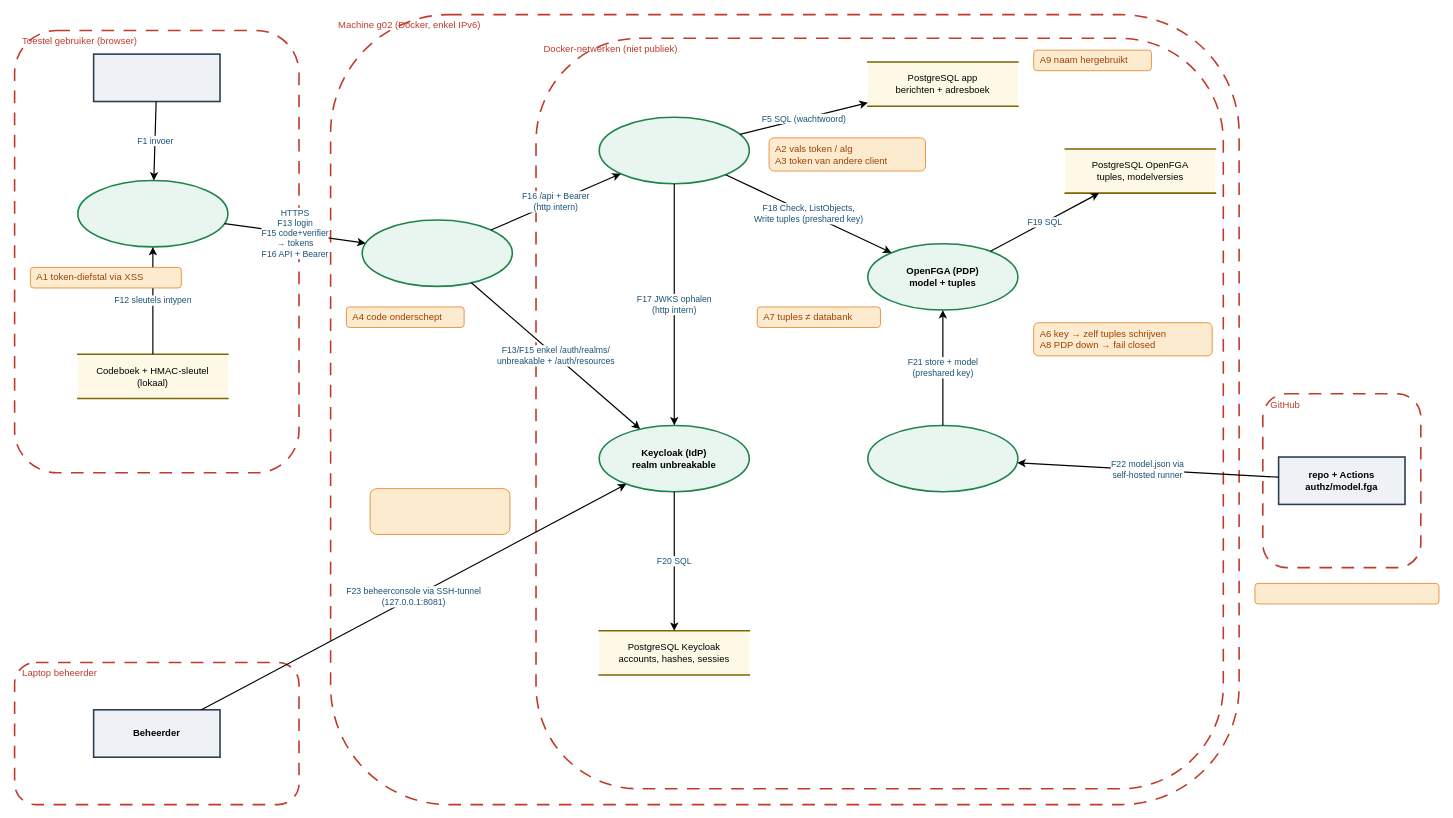
Some shapes in this 1453 by 818 pixel diagram are drawn without their labels. Here are the shapes that lost their labels. From the top down, the centre of each, then its label:
At (156,77): "Gebruiker".
At (674,150): "API (PEP) ASP.NET, JWT-validatie".
At (152,213): "SPA (webclient) crypto.js + auth.js".
At (437,253): "BunkerWeb (WAF) TLS-einde".
At (942,458): "fga-init (PAP) store + model".
At (439,511): "A5 beheerconsole/master A10 open registratie A12 CVE's Keycloak".
At (1346,593): "A11 kwaadaardige modelwijziging".
